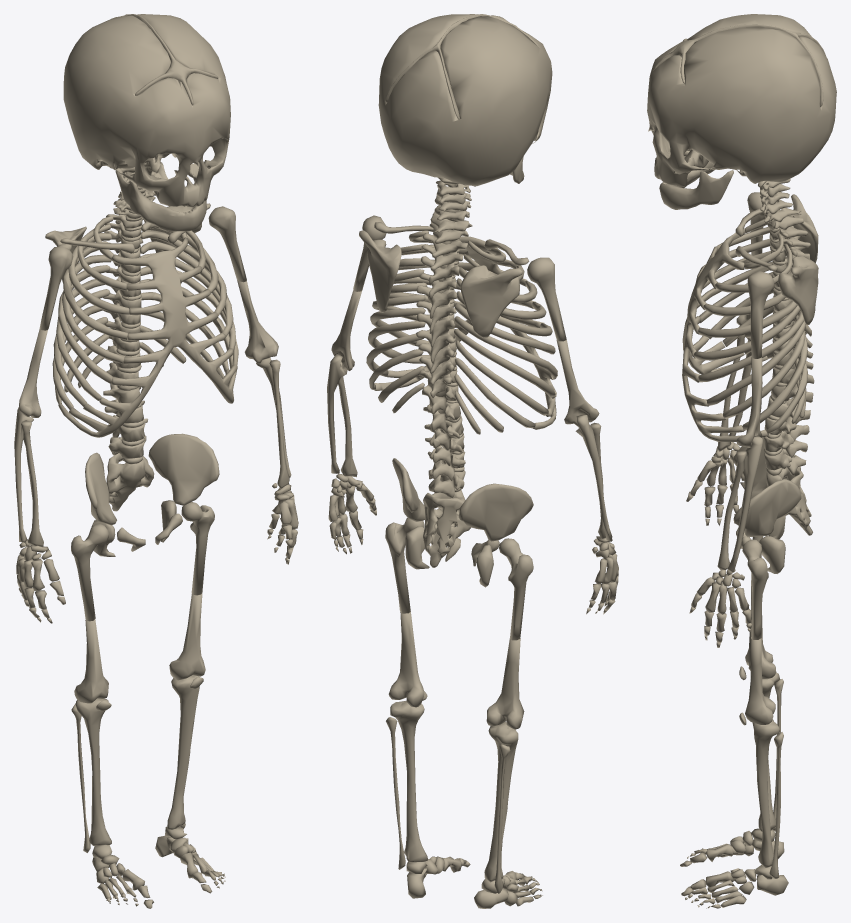
File: pediatric_infant_male.skeletal.LOD2.glb
The picture shows the model from 3 angles, left to right: view 1: azimuth 30°, elevation 25°; view 2: azimuth 150°, elevation 25°; view 3: azimuth 270°, elevation 25°; orthographic projection. The views are drawn at different scales.
Visible parts, largest first — view 1: PEDIATRIC.INFANT.MALE.SKELETAL.CRANIUM_CORTICAL, PEDIATRIC.INFANT.MALE.SKELETAL.RIBS_CORTICAL, PEDIATRIC.INFANT.MALE.SKELETAL.CARTILAGE_TRUNK, PEDIATRIC.INFANT.MALE.SKELETAL.PELVIS_CORTICAL, PEDIATRIC.INFANT.MALE.SKELETAL.TIBIAE_CORTICAL, PEDIATRIC.INFANT.MALE.SKELETAL.WRISTS_AND_HAND_BONES_CORTICA, PEDIATRIC.INFANT.MALE.SKELETAL.ANKLES_AND_FOOT_CORTICAL, PEDIATRIC.INFANT.MALE.SKELETAL.FEMORA_LOWER_CORTICAL, PEDIATRIC.INFANT.MALE.SKELETAL.FEMORA_UPPER_CORTICAL, PEDIATRIC.INFANT.MALE.SKELETAL.THORACIC_SPINE_CORTICAL, PEDIATRIC.INFANT.MALE.SKELETAL.HUMERI_LOWER_CORTICAL, PEDIATRIC.INFANT.MALE.SKELETAL.HUMERI_UPPER_CORTICAL (+10 smaller); view 2: PEDIATRIC.INFANT.MALE.SKELETAL.CRANIUM_CORTICAL, PEDIATRIC.INFANT.MALE.SKELETAL.RIBS_CORTICAL, PEDIATRIC.INFANT.MALE.SKELETAL.PELVIS_CORTICAL, PEDIATRIC.INFANT.MALE.SKELETAL.THORACIC_SPINE_CORTICAL, PEDIATRIC.INFANT.MALE.SKELETAL.SCAPULAE_CORTICAL, PEDIATRIC.INFANT.MALE.SKELETAL.TIBIAE_CORTICAL, PEDIATRIC.INFANT.MALE.SKELETAL.WRISTS_AND_HAND_BONES_CORTICA, PEDIATRIC.INFANT.MALE.SKELETAL.FEMORA_LOWER_CORTICAL, PEDIATRIC.INFANT.MALE.SKELETAL.CARTILAGE_TRUNK, PEDIATRIC.INFANT.MALE.SKELETAL.FEMORA_UPPER_CORTICAL, PEDIATRIC.INFANT.MALE.SKELETAL.LUMBAR_SPINE_CORTICAL, PEDIATRIC.INFANT.MALE.SKELETAL.ANKLES_AND_FOOT_CORTICAL (+9 smaller); view 3: PEDIATRIC.INFANT.MALE.SKELETAL.CRANIUM_CORTICAL, PEDIATRIC.INFANT.MALE.SKELETAL.RIBS_CORTICAL, PEDIATRIC.INFANT.MALE.SKELETAL.CARTILAGE_TRUNK, PEDIATRIC.INFANT.MALE.SKELETAL.WRISTS_AND_HAND_BONES_CORTICA, PEDIATRIC.INFANT.MALE.SKELETAL.ANKLES_AND_FOOT_CORTICAL, PEDIATRIC.INFANT.MALE.SKELETAL.PELVIS_CORTICAL, PEDIATRIC.INFANT.MALE.SKELETAL.SCAPULAE_CORTICAL, PEDIATRIC.INFANT.MALE.SKELETAL.LUMBAR_SPINE_CORTICAL, PEDIATRIC.INFANT.MALE.SKELETAL.TIBIAE_CORTICAL, PEDIATRIC.INFANT.MALE.SKELETAL.FEMORA_LOWER_CORTICAL, PEDIATRIC.INFANT.MALE.SKELETAL.MANDIBLE_CORTICAL, PEDIATRIC.INFANT.MALE.SKELETAL.HUMERI_UPPER_CORTICAL (+10 smaller).
Part boxes in pixels (x1,y1,x2,y2): PEDIATRIC.INFANT.MALE.SKELETAL.CRANIUM_CORTICAL: (63,14,230,207); PEDIATRIC.INFANT.MALE.SKELETAL.RIBS_CORTICAL: (52,216,238,409); PEDIATRIC.INFANT.MALE.SKELETAL.CARTILAGE_TRUNK: (58,186,237,464); PEDIATRIC.INFANT.MALE.SKELETAL.PELVIS_CORTICAL: (85,433,219,556); PEDIATRIC.INFANT.MALE.SKELETAL.TIBIAE_CORTICAL: (75,675,199,845); PEDIATRIC.INFANT.MALE.SKELETAL.WRISTS_AND_HAND_BONES_CORTICA: (16,483,298,623); PEDIATRIC.INFANT.MALE.SKELETAL.ANKLES_AND_FOOT_CORTICAL: (92,826,225,908); PEDIATRIC.INFANT.MALE.SKELETAL.FEMORA_LOWER_CORTICAL: (74,593,205,703); PEDIATRIC.INFANT.MALE.SKELETAL.FEMORA_UPPER_CORTICAL: (71,502,214,621); PEDIATRIC.INFANT.MALE.SKELETAL.THORACIC_SPINE_CORTICAL: (103,212,143,368); PEDIATRIC.INFANT.MALE.SKELETAL.HUMERI_LOWER_CORTICAL: (18,280,278,417); PEDIATRIC.INFANT.MALE.SKELETAL.HUMERI_UPPER_CORTICAL: (39,206,246,330); PEDIATRIC.INFANT.MALE.SKELETAL.CRANIUM_CORTICAL: (378,14,552,186); PEDIATRIC.INFANT.MALE.SKELETAL.RIBS_CORTICAL: (366,230,557,434); PEDIATRIC.INFANT.MALE.SKELETAL.PELVIS_CORTICAL: (392,458,533,587); PEDIATRIC.INFANT.MALE.SKELETAL.THORACIC_SPINE_CORTICAL: (416,233,467,414); PEDIATRIC.INFANT.MALE.SKELETAL.SCAPULAE_CORTICAL: (359,230,522,337); PEDIATRIC.INFANT.MALE.SKELETAL.TIBIAE_CORTICAL: (390,700,518,882); PEDIATRIC.INFANT.MALE.SKELETAL.WRISTS_AND_HAND_BONES_CORTICA: (328,473,618,614); PEDIATRIC.INFANT.MALE.SKELETAL.FEMORA_LOWER_CORTICAL: (388,612,524,729); PEDIATRIC.INFANT.MALE.SKELETAL.CARTILAGE_TRUNK: (374,219,557,492); PEDIATRIC.INFANT.MALE.SKELETAL.FEMORA_UPPER_CORTICAL: (385,517,533,640); PEDIATRIC.INFANT.MALE.SKELETAL.LUMBAR_SPINE_CORTICAL: (423,402,465,498); PEDIATRIC.INFANT.MALE.SKELETAL.ANKLES_AND_FOOT_CORTICAL: (406,856,542,908); PEDIATRIC.INFANT.MALE.SKELETAL.CRANIUM_CORTICAL: (647,14,836,186); PEDIATRIC.INFANT.MALE.SKELETAL.RIBS_CORTICAL: (694,218,807,433); PEDIATRIC.INFANT.MALE.SKELETAL.CARTILAGE_TRUNK: (682,184,789,475); PEDIATRIC.INFANT.MALE.SKELETAL.WRISTS_AND_HAND_BONES_CORTICA: (686,442,751,647); PEDIATRIC.INFANT.MALE.SKELETAL.ANKLES_AND_FOOT_CORTICAL: (680,828,788,908); PEDIATRIC.INFANT.MALE.SKELETAL.PELVIS_CORTICAL: (733,437,801,573); PEDIATRIC.INFANT.MALE.SKELETAL.SCAPULAE_CORTICAL: (778,194,818,324); PEDIATRIC.INFANT.MALE.SKELETAL.LUMBAR_SPINE_CORTICAL: (764,384,813,475); PEDIATRIC.INFANT.MALE.SKELETAL.TIBIAE_CORTICAL: (752,672,780,867); PEDIATRIC.INFANT.MALE.SKELETAL.FEMORA_LOWER_CORTICAL: (745,586,776,724); PEDIATRIC.INFANT.MALE.SKELETAL.MANDIBLE_CORTICAL: (659,161,733,209); PEDIATRIC.INFANT.MALE.SKELETAL.HUMERI_UPPER_CORTICAL: (747,192,774,358).
Size of the model in its own units: 0.2522 by 0.7551 by 0.1511.
